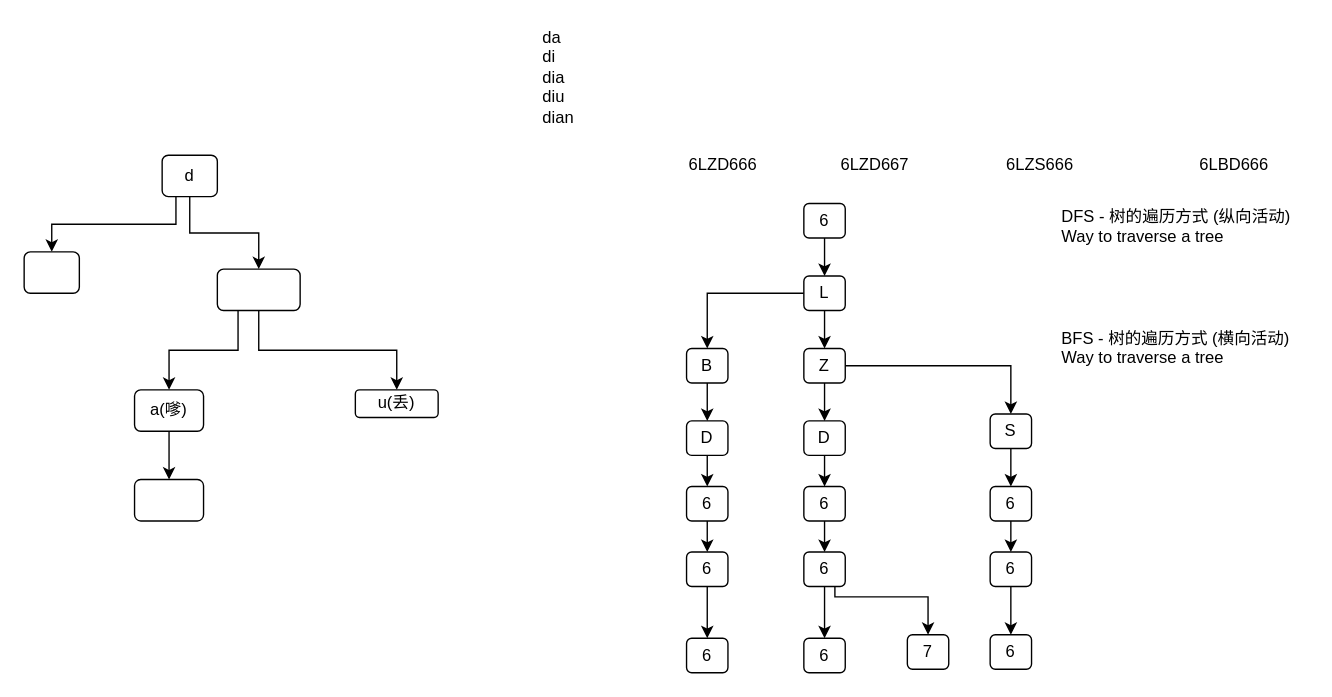
The diagram is 1332 pixels wide and 697 high, and some of its shapes have lost their labels. The shapes that lost their labels are listed below. From the top down, each one's centre as x and y in pixels, then its label:
At point (51, 271): "a (达)".
At point (258, 289): "i (低)".
At point (168, 499): "n (滇)".
